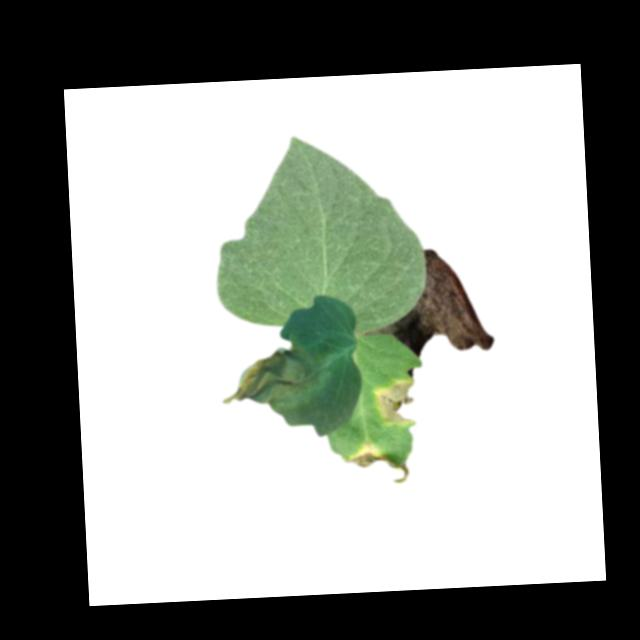Late_blight: (357, 245, 497, 361), (218, 343, 321, 411), (372, 379, 418, 428), (341, 438, 401, 471)
healthy: (210, 130, 430, 340)
